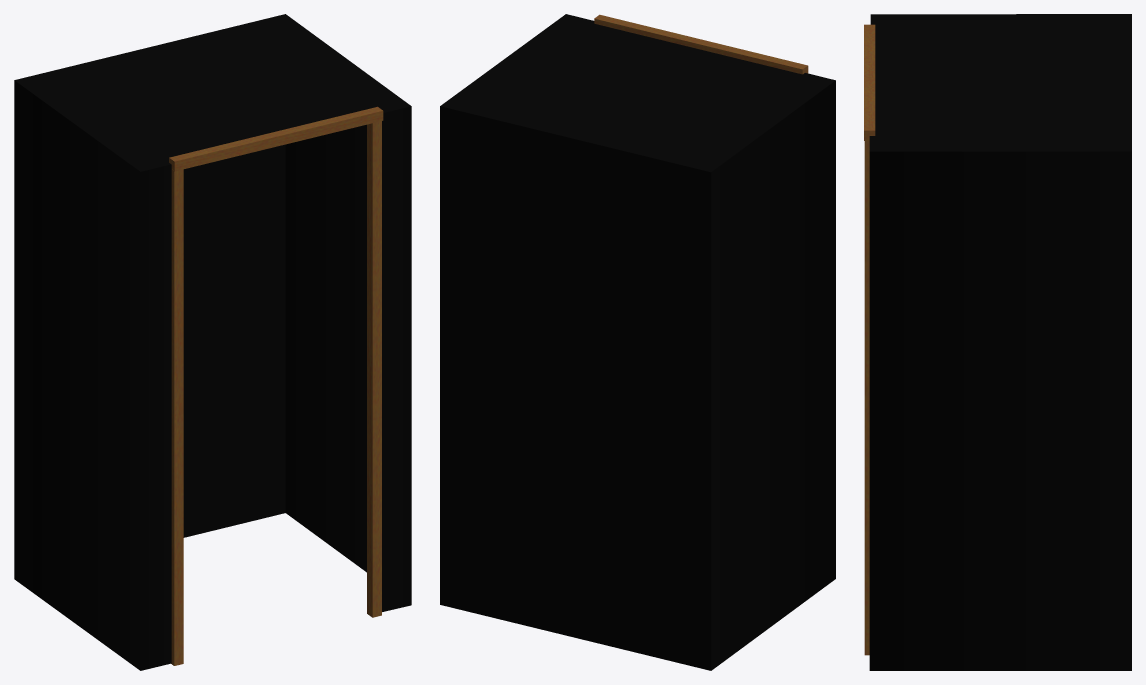
Rendered from doorframe.FBX.
3 views of the same model, side by side, from view 1: azimuth 30°, elevation 25°; view 2: azimuth 150°, elevation 25°; view 3: azimuth 270°, elevation 25° (orthographic). The views are drawn at different scales.
Parts seen in each view (by area): view 1: Box01; view 2: Box01; view 3: Box01.
Part boxes in pixels (bbox=[...]): Box01: bbox=[14, 14, 411, 670]; Box01: bbox=[440, 14, 835, 670]; Box01: bbox=[864, 14, 1131, 670].
Bounding box in the file's own units: 14.33 × 25.47 × 11.77.
1 material, 1 textured.
